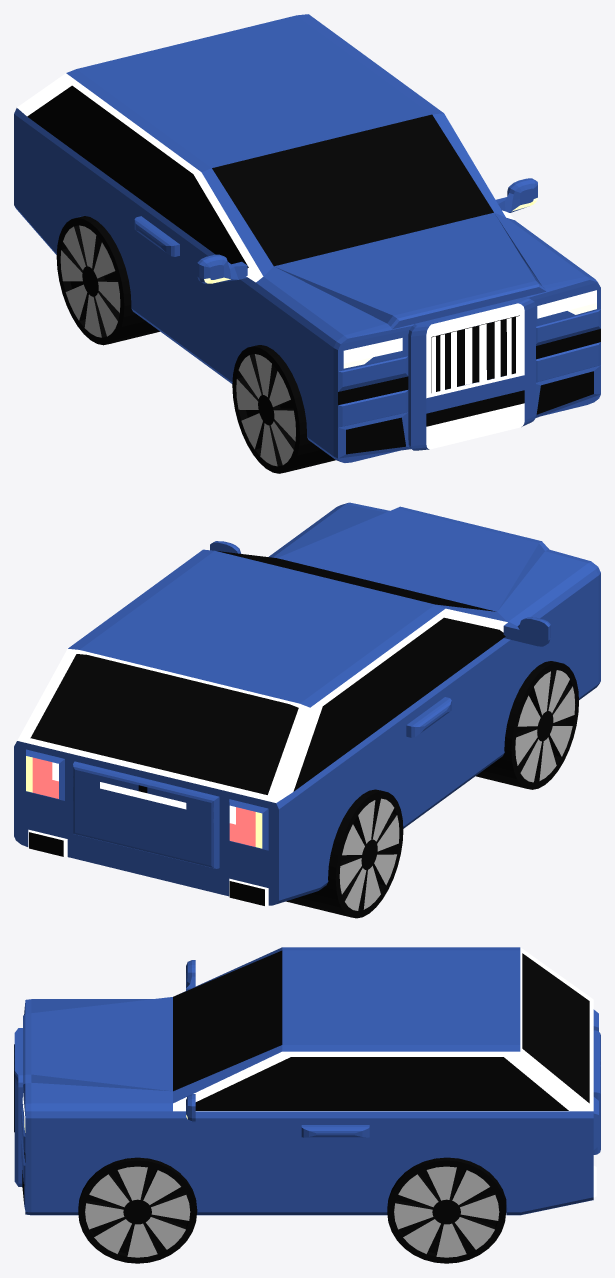
File: Suv mockup sclaed.glb
The picture shows the model from 3 angles, top to bottom: view 1: azimuth 30°, elevation 25°; view 2: azimuth 150°, elevation 25°; view 3: azimuth 270°, elevation 25°; orthographic projection. The views are drawn at different scales.
Visible parts, largest first — view 1: Cube.003; view 2: Cube.003; view 3: Cube.003.
Part boxes in pixels (x1=…): Cube.003: x1=14, y1=14, x2=600, y2=473; Cube.003: x1=14, y1=502, x2=600, y2=918; Cube.003: x1=14, y1=947, x2=600, y2=1263.
Bounding box in the file's own units: 3.57 × 2.36 × 6.1.
